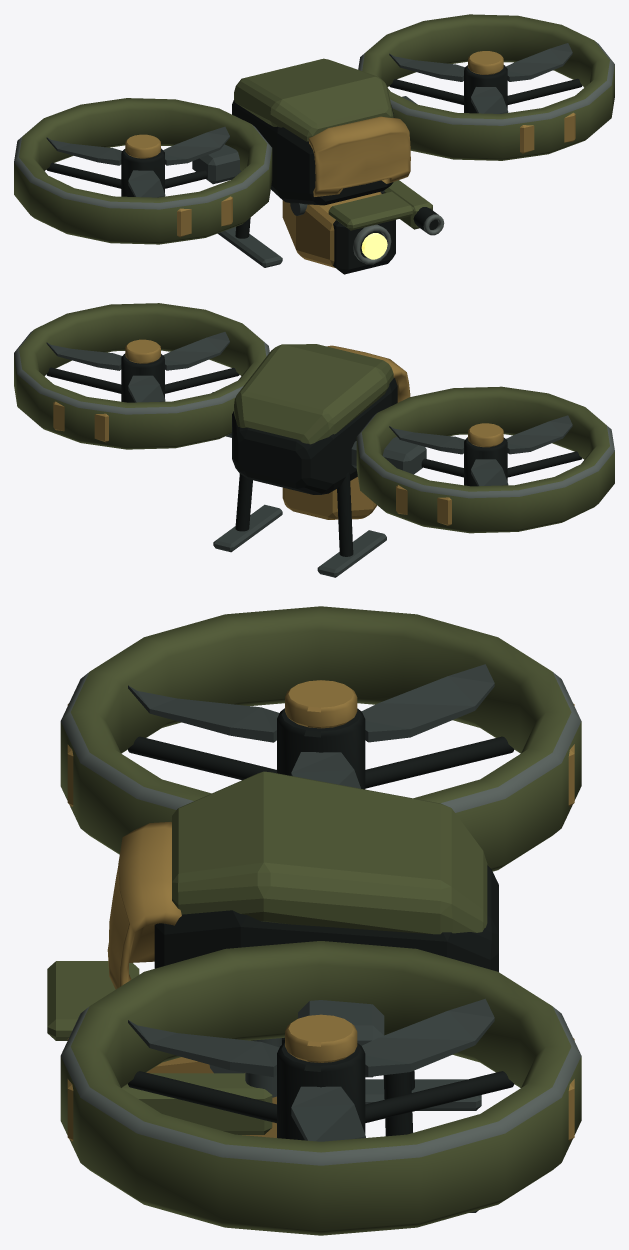
The model's file is BUZZ_DRONE.lo.glb.
3 renders of one model, top to bottom at view 1: azimuth 30°, elevation 25°; view 2: azimuth 150°, elevation 25°; view 3: azimuth 270°, elevation 25°, orthographic. The views are drawn at different scales.
Parts seen in each view (by area): view 1: FlightTilt_Mesh, OpticGimbal_Mesh, Rotor_L_Mesh, Rotor_R_Mesh, ProjectionNozzle_Mesh; view 2: FlightTilt_Mesh, Rotor_R_Mesh, Rotor_L_Mesh, OpticGimbal_Mesh; view 3: FlightTilt_Mesh, Rotor_R_Mesh, Rotor_L_Mesh, OpticGimbal_Mesh, ProjectionNozzle_Mesh.
Boxes of the visible parts, left/top/right/bottom form: FlightTilt_Mesh: left=14, top=14, right=614, bottom=267; OpticGimbal_Mesh: left=282, top=190, right=414, bottom=274; Rotor_L_Mesh: left=46, top=126, right=229, bottom=197; Rotor_R_Mesh: left=389, top=43, right=572, bottom=113; ProjectionNozzle_Mesh: left=384, top=180, right=444, bottom=235; FlightTilt_Mesh: left=14, top=303, right=614, bottom=577; Rotor_R_Mesh: left=46, top=332, right=229, bottom=402; Rotor_L_Mesh: left=389, top=415, right=572, bottom=486; OpticGimbal_Mesh: left=282, top=476, right=376, bottom=519; FlightTilt_Mesh: left=60, top=606, right=581, bottom=1235; Rotor_R_Mesh: left=128, top=998, right=494, bottom=1141; Rotor_L_Mesh: left=128, top=664, right=494, bottom=789; OpticGimbal_Mesh: left=47, top=961, right=276, bottom=1137; ProjectionNozzle_Mesh: left=121, top=1038, right=281, bottom=1134.
Bounding box in the file's own units: 2.29 × 0.649 × 0.931.
